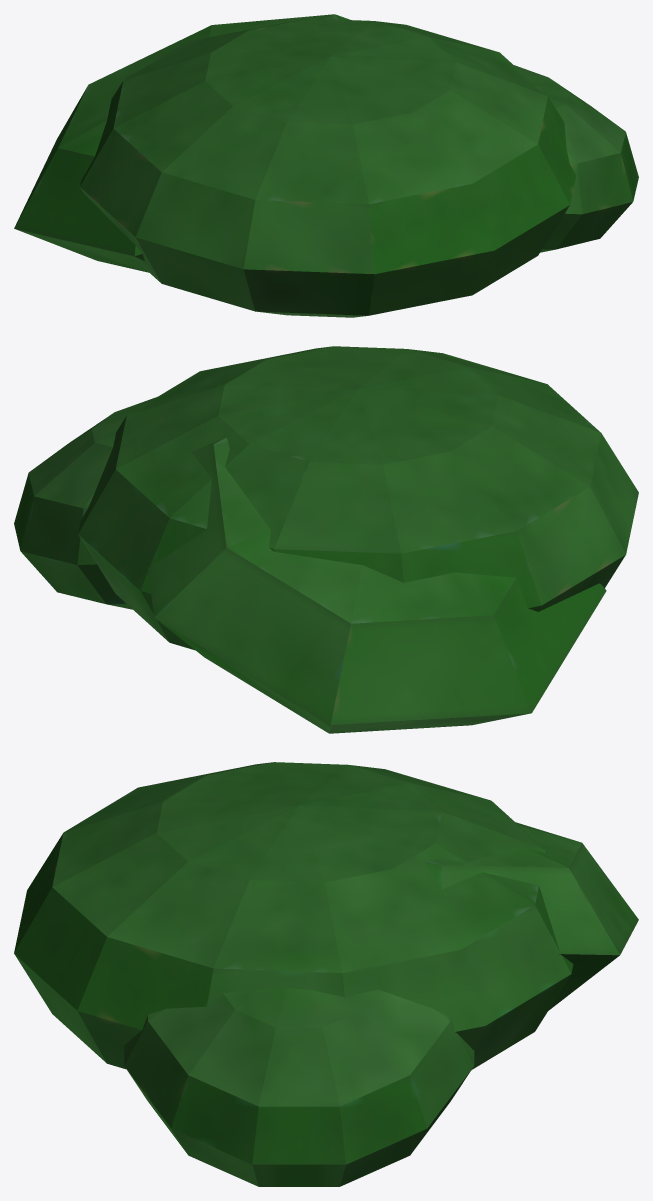
The model's file is bush01.obj.
3 views of the same model, one above another, from view 1: azimuth 30°, elevation 25°; view 2: azimuth 150°, elevation 25°; view 3: azimuth 270°, elevation 25° (orthographic). The views are drawn at different scales.
Parts seen in each view (by area): view 1: sphere; view 2: sphere; view 3: sphere.
Part boxes in pixels (x1,y1,x2,y2): sphere: [14, 14, 638, 317]; sphere: [14, 346, 638, 733]; sphere: [14, 762, 638, 1186].
Bounding box in the file's own units: 1.23 × 0.5023 × 1.12.
Materials: 1 (1 with a texture image).
